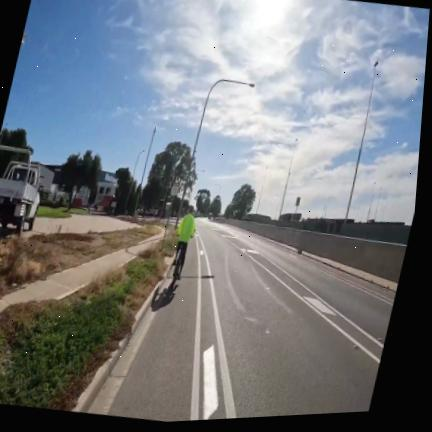Bike_Lane: (88, 240, 198, 422)
